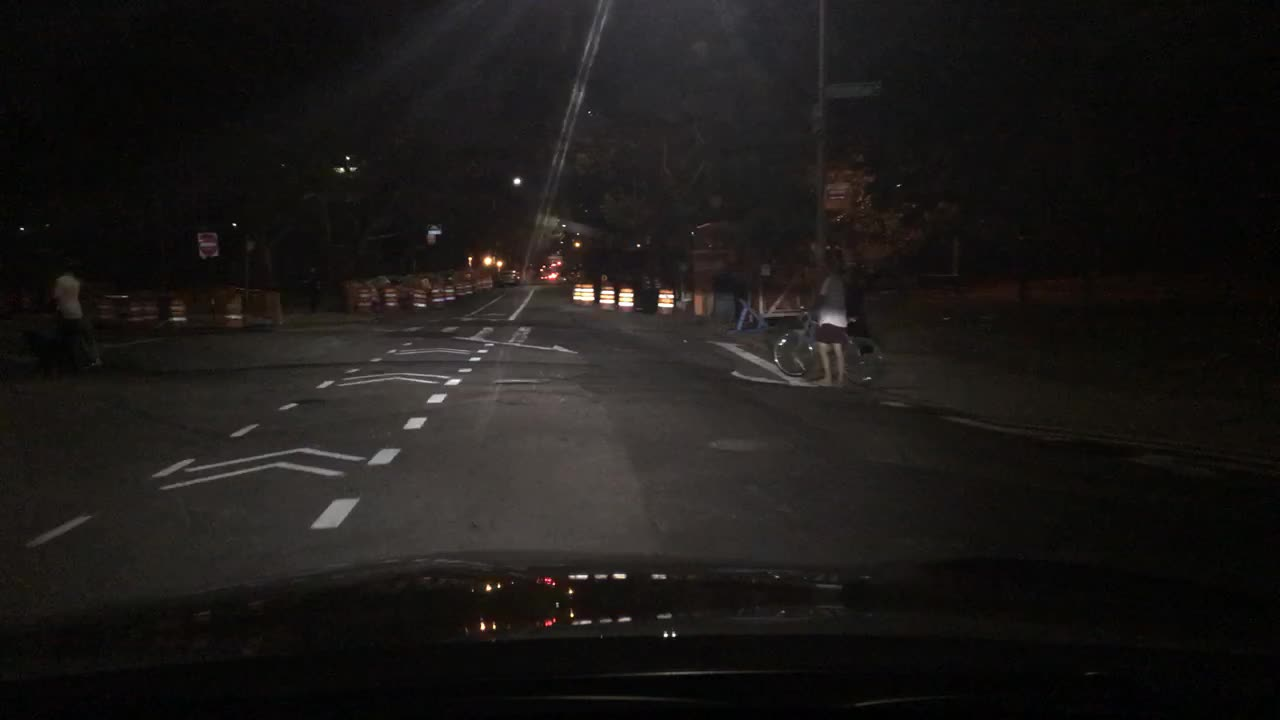bike: (772, 304, 885, 386)
car: (494, 267, 524, 287)
person: (800, 251, 848, 388), (49, 260, 82, 370), (69, 262, 101, 369), (303, 263, 325, 312)
traffic sign: (195, 231, 218, 263)
